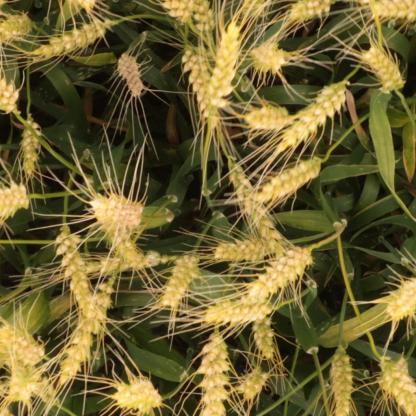whd: (56, 278, 120, 389), (223, 158, 285, 254), (237, 243, 318, 310), (278, 82, 347, 155), (53, 224, 101, 320), (204, 19, 249, 108), (251, 155, 324, 207), (26, 19, 112, 63), (61, 247, 164, 282), (180, 45, 221, 129), (194, 332, 232, 416), (100, 207, 146, 271), (155, 251, 203, 309), (200, 293, 276, 329), (83, 191, 147, 231), (376, 353, 416, 416), (204, 235, 281, 266), (0, 318, 43, 371), (327, 344, 356, 416), (362, 44, 405, 92), (110, 376, 163, 413), (29, 360, 64, 411), (383, 274, 416, 327), (248, 310, 278, 361), (0, 180, 33, 223), (9, 360, 41, 404), (116, 52, 145, 98), (236, 364, 269, 402), (243, 104, 290, 130), (20, 119, 42, 174), (366, 0, 416, 23), (250, 43, 287, 72), (0, 13, 34, 42), (289, 1, 337, 21), (191, 0, 218, 34), (0, 76, 21, 115), (158, 0, 193, 23), (241, 0, 264, 20)
